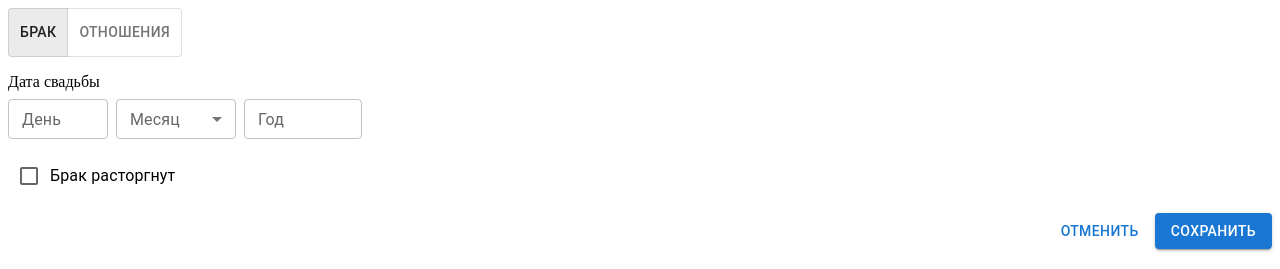
Test: MarriageRelationForm › cohabitation — shows start date and ended checkbox
The image size is (1280, 269).
Click the button "Отношения".
click(125, 32)  # box [68,8,182,56]
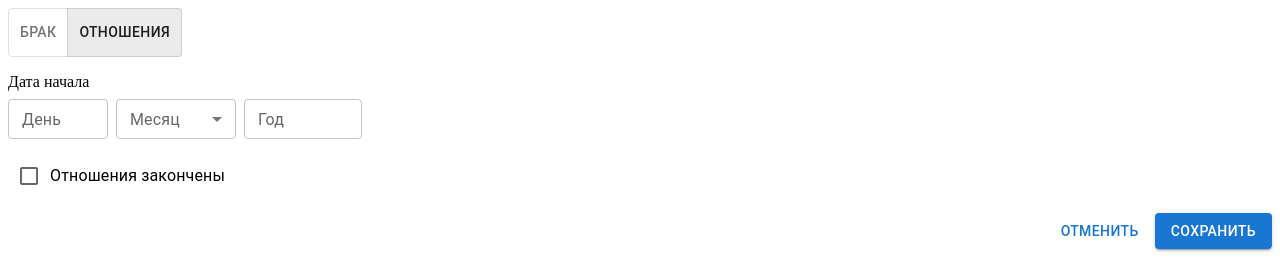
Check: the checkbox labelled "Отношения закончены" is shown, box [17,164,225,188]
Check: the text "Дата начала" is shown, box [8,72,89,90]
